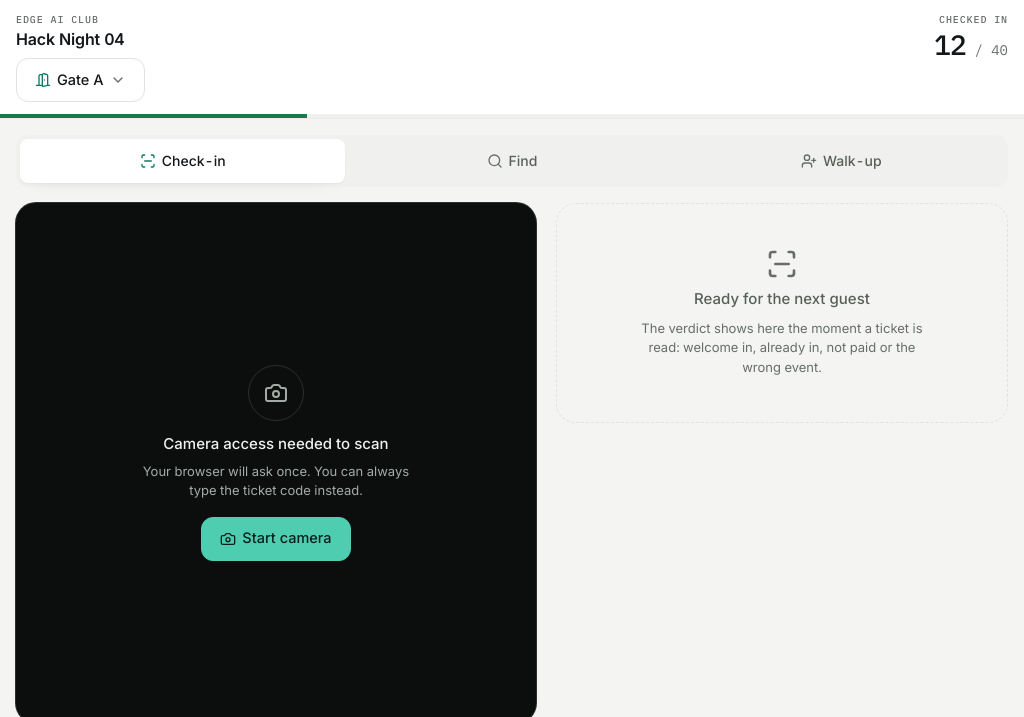
Test: the gate console › registers a walk-up, asking for a name first
Click the tab "Walk-up". click: (841, 161)
box: [679, 139, 1004, 183]
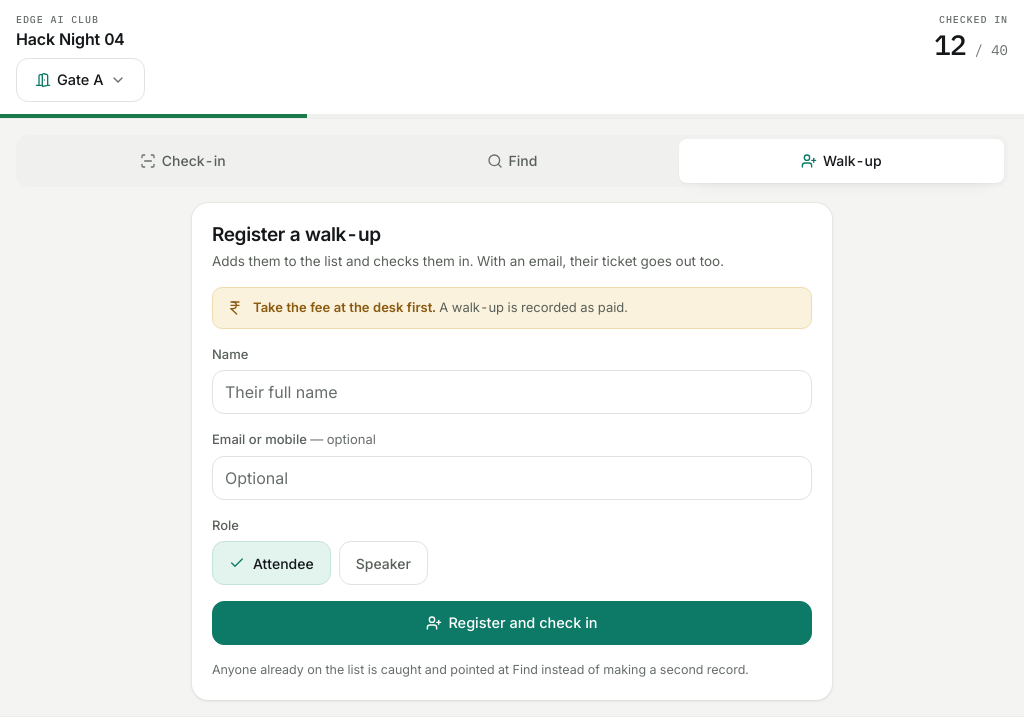
Result: the text "Take the fee at the desk first." is shown at [253, 300, 436, 316]
Click the button "Register and check in". click: (512, 624)
box: [212, 602, 812, 646]
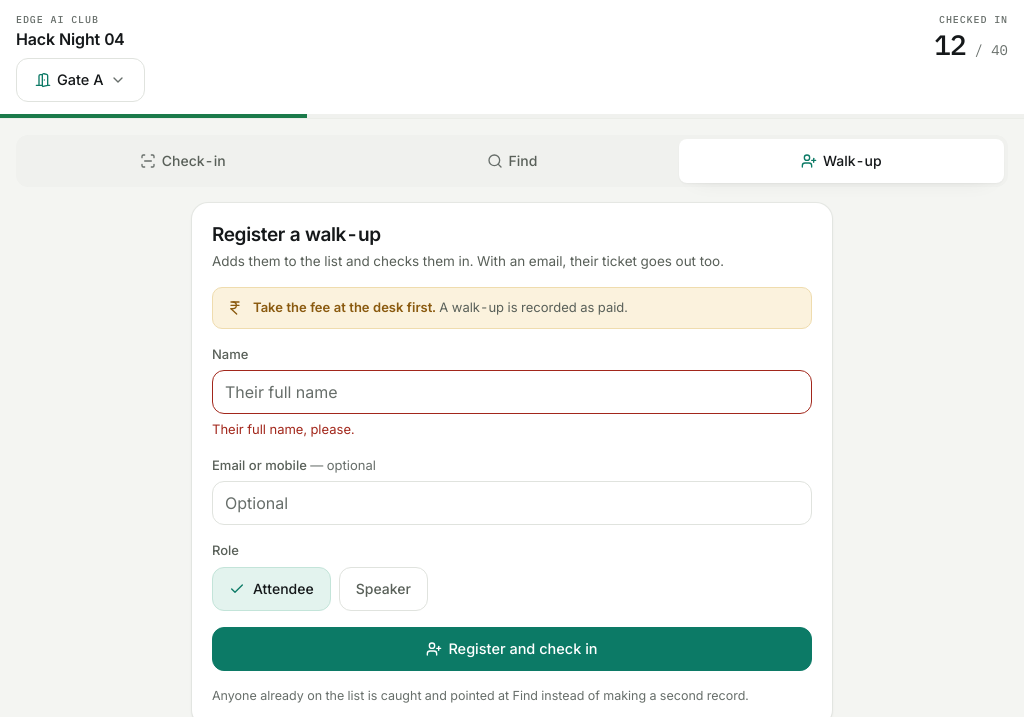
Result: the text "Their full name, please." is shown at [212, 422, 354, 438]
Type "Devika Menon" into the field labelled "Name". click: (512, 392)
box: [212, 370, 812, 414]
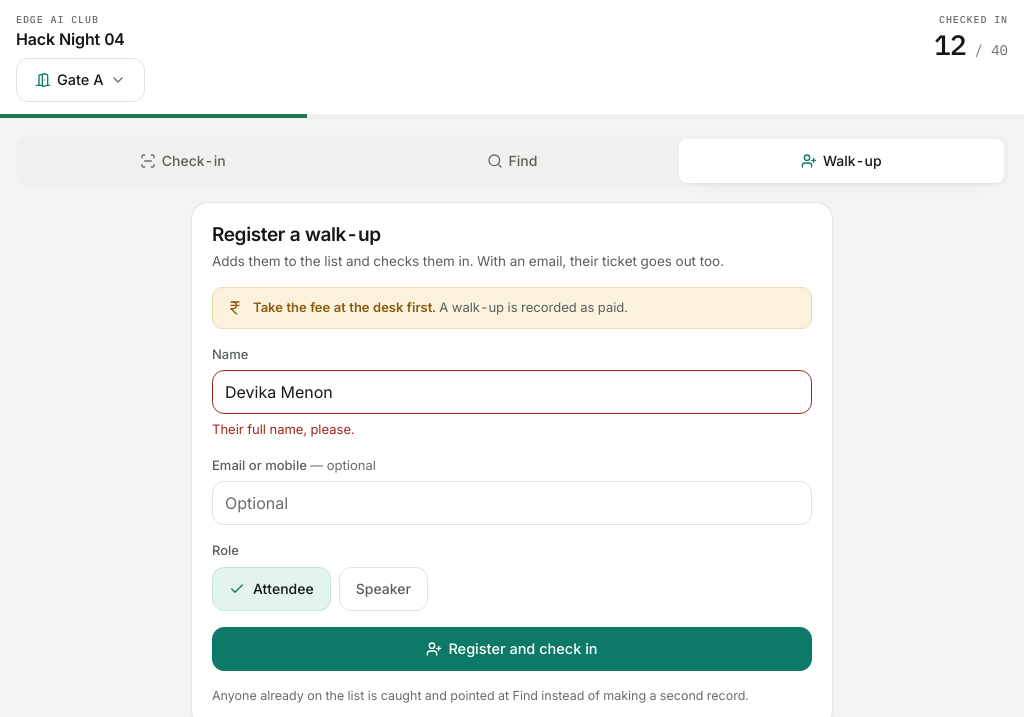
Click the radio button labelled "Speaker". click: (383, 589)
box: [339, 567, 428, 611]
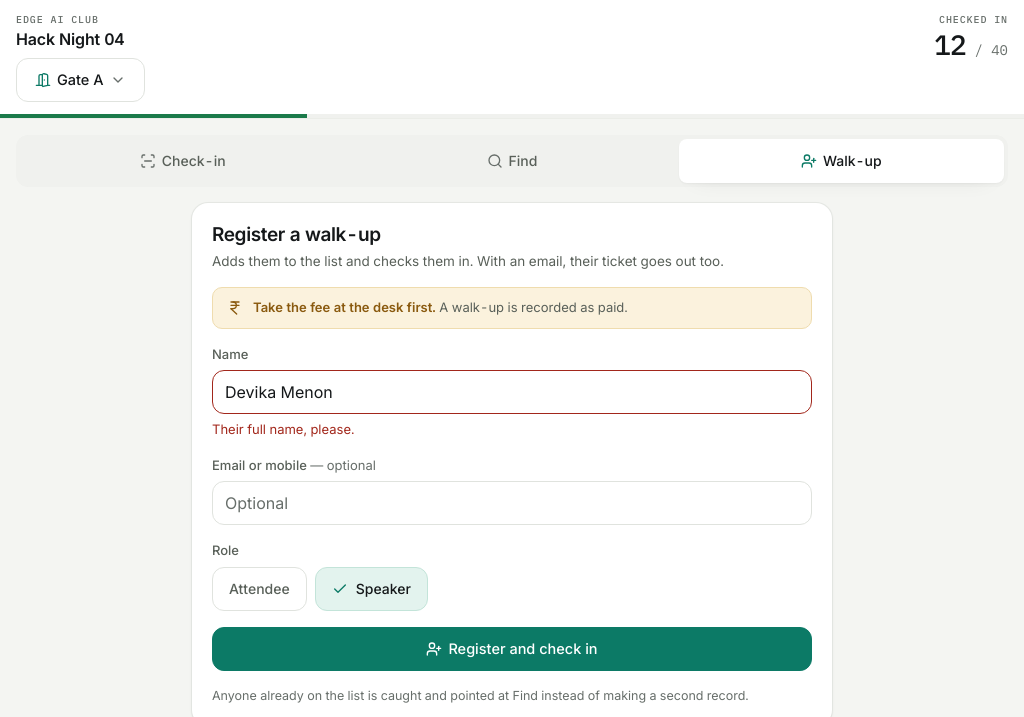
Click the button "Register and check in". click: (512, 649)
box: [212, 627, 812, 671]
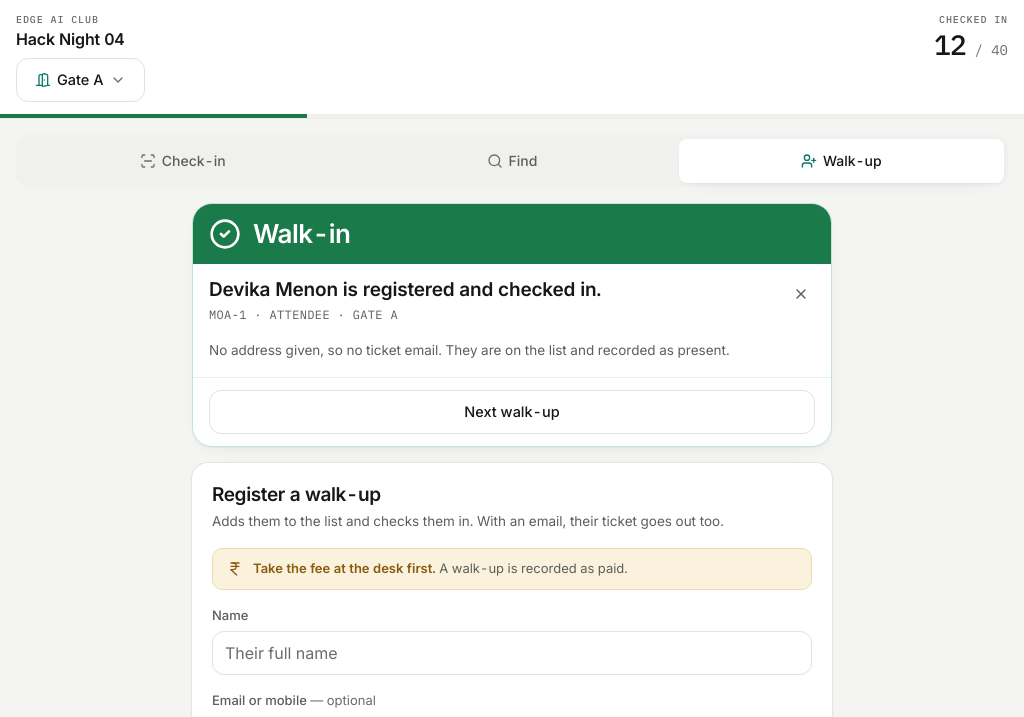
Result: the text "Walk-in" is shown at [253, 218, 350, 248]
Result: the field labelled "Name" is empty at [212, 631, 812, 675]
